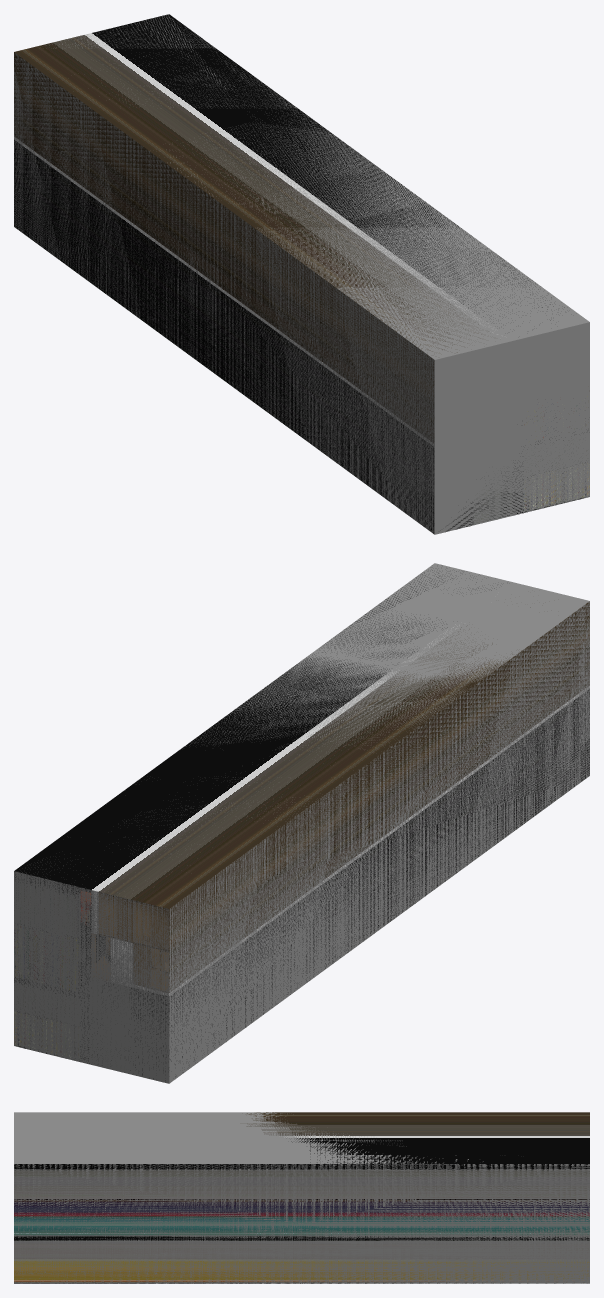
File: books_02.FBX
3 renders of one model, top to bottom at view 1: azimuth 30°, elevation 25°; view 2: azimuth 150°, elevation 25°; view 3: azimuth 270°, elevation 25°, orthographic. The views are drawn at different scales.
Visible parts, largest first — view 1: bounds, colbox-1; view 2: bounds, colbox-1; view 3: colbox-1, bounds.
Boxes of the visible parts, x1,y1,x2,y2 form: bounds: (14,14,589,534); colbox-1: (14,14,589,533); bounds: (14,563,589,1083); colbox-1: (14,570,589,1080); colbox-1: (14,1112,589,1283); bounds: (14,1112,589,1283).
Size of the model in its own units: 25.19 by 27.12 by 118.
